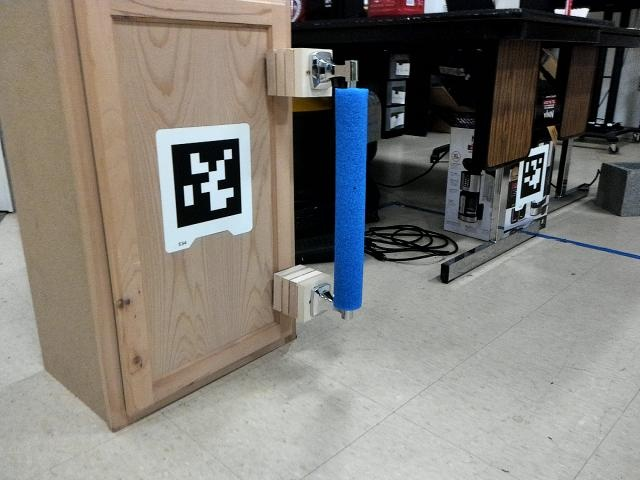noodle_handle: (324, 69, 376, 330)
